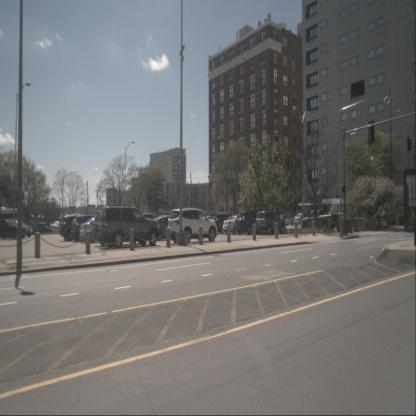vehicle-car: (97, 207, 158, 247), (168, 208, 217, 243), (93, 211, 130, 246), (150, 216, 186, 240), (70, 215, 102, 241), (79, 217, 109, 244), (255, 211, 286, 235), (235, 210, 264, 235), (58, 216, 86, 241), (2, 218, 33, 238), (0, 219, 26, 240), (213, 214, 237, 235), (223, 214, 247, 235), (293, 213, 309, 226), (50, 220, 64, 234), (278, 214, 294, 226), (376, 219, 387, 228)
vehicle-truck: (301, 210, 337, 231)
